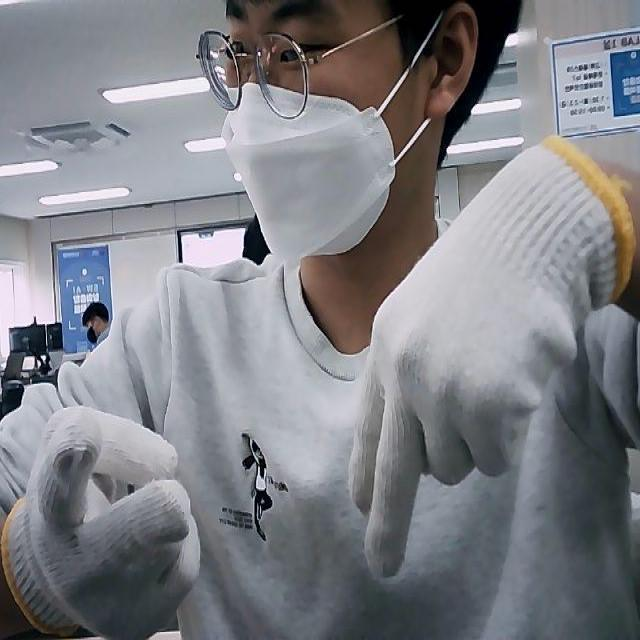gloves: (346, 134, 634, 576), (0, 408, 202, 638)
